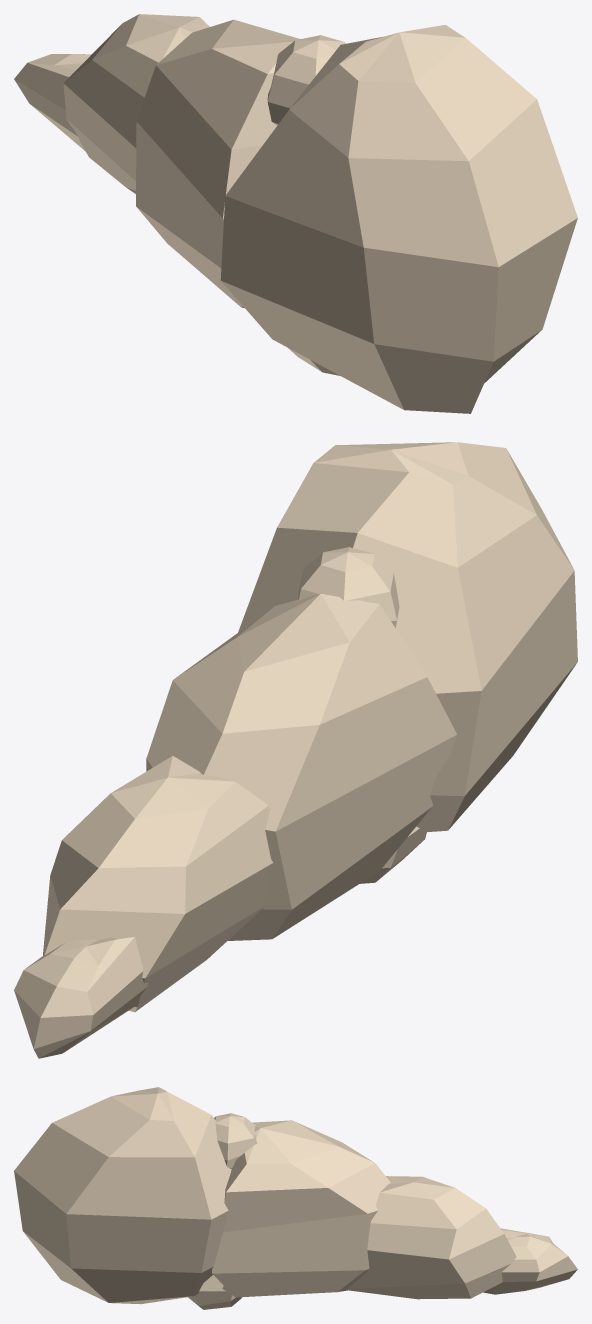
File: Cloud2.fbx
3 views of the same model, one above another, from view 1: azimuth 30°, elevation 25°; view 2: azimuth 150°, elevation 25°; view 3: azimuth 270°, elevation 25° (orthographic). The views are drawn at different scales.
Visible parts, largest first — view 1: Cloud2; view 2: Cloud2; view 3: Cloud2.
Part boxes in pixels (left/top/right/bottom): Cloud2: left=14, top=14, right=577, bottom=413; Cloud2: left=14, top=442, right=577, bottom=1058; Cloud2: left=14, top=1087, right=577, bottom=1309.
Size of the model in its own units: 142 by 214 by 505.
